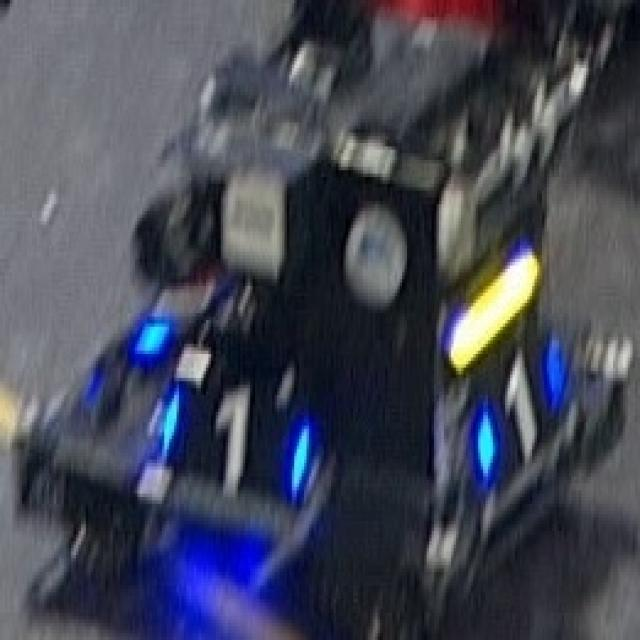B1: (157, 378, 311, 500), (473, 334, 564, 476)
